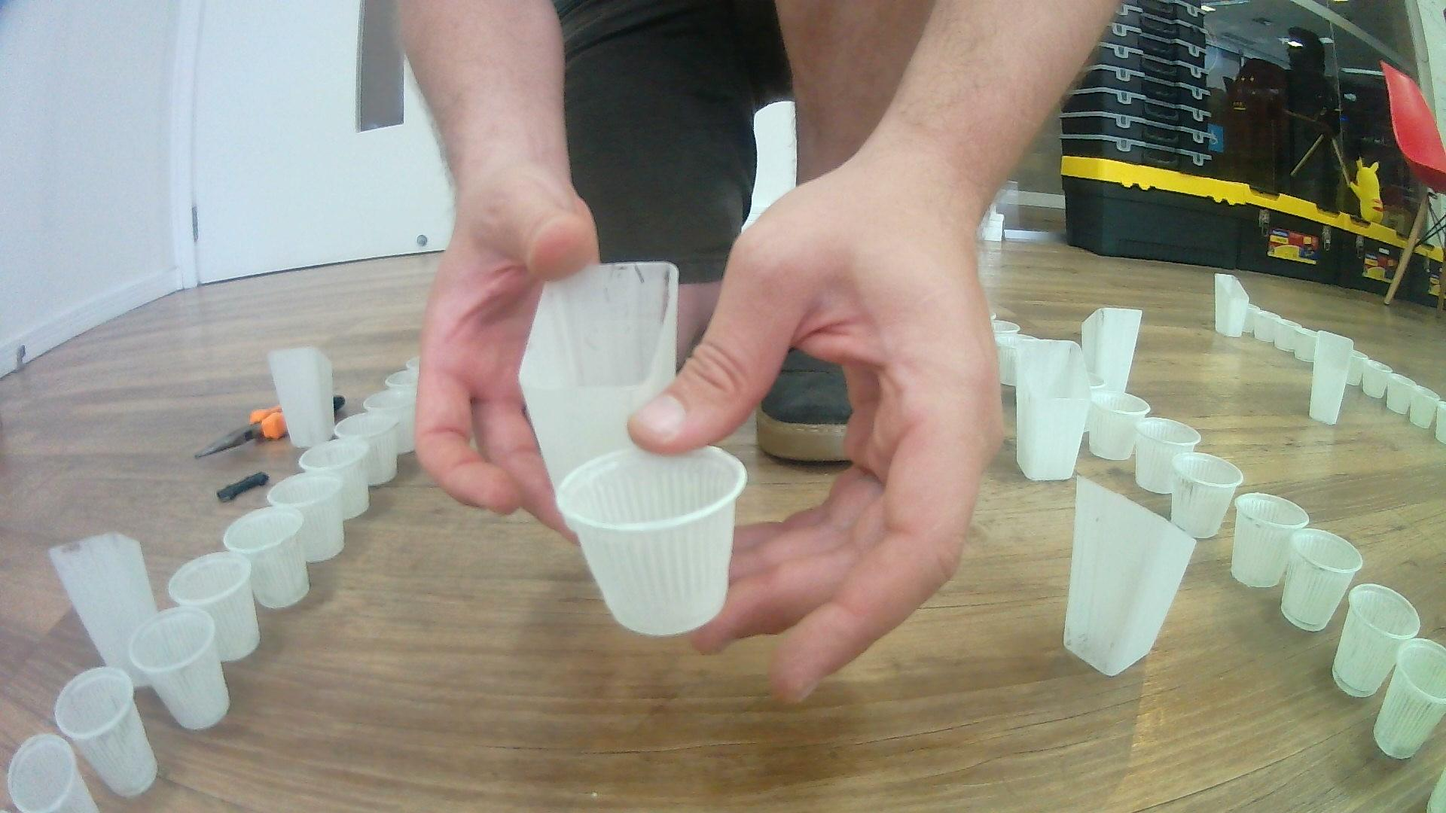erva_daninha: (518, 258, 679, 513), (1062, 475, 1197, 677), (48, 531, 159, 688), (1012, 338, 1095, 482), (267, 346, 334, 452), (1080, 306, 1145, 400), (1307, 329, 1354, 426), (1213, 273, 1249, 338)
planta: (554, 444, 749, 638), (52, 665, 157, 797), (125, 606, 232, 732), (1330, 582, 1423, 699), (167, 552, 261, 664), (222, 507, 312, 609), (1372, 638, 1446, 762), (1279, 527, 1365, 633), (1229, 492, 1310, 589), (5, 732, 101, 813), (267, 471, 346, 565), (1171, 450, 1245, 540), (297, 437, 371, 522), (1133, 416, 1203, 495), (332, 411, 400, 487), (1088, 391, 1152, 462), (362, 390, 418, 455), (991, 330, 1023, 386), (1408, 386, 1443, 430), (1384, 372, 1419, 414), (1362, 360, 1393, 399), (1273, 318, 1302, 352), (1345, 350, 1370, 386), (384, 370, 419, 395), (1294, 327, 1319, 362), (1261, 312, 1284, 344), (1252, 309, 1272, 341), (1243, 304, 1261, 336), (1091, 373, 1105, 411), (990, 318, 1021, 335), (1434, 401, 1446, 444), (406, 356, 422, 372)
